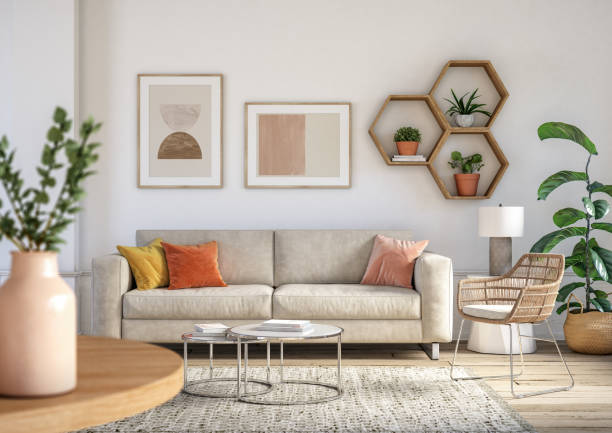chair: (449, 251, 575, 400)
floor lamp: (466, 198, 539, 358)
large plant: (536, 115, 612, 358)
small plant: (0, 103, 102, 397), (440, 86, 491, 127), (447, 147, 487, 197), (392, 124, 422, 155)
sofa: (89, 225, 457, 361)
table: (225, 319, 347, 408), (179, 327, 274, 400)
wall art: (134, 69, 226, 191), (241, 99, 353, 190)
